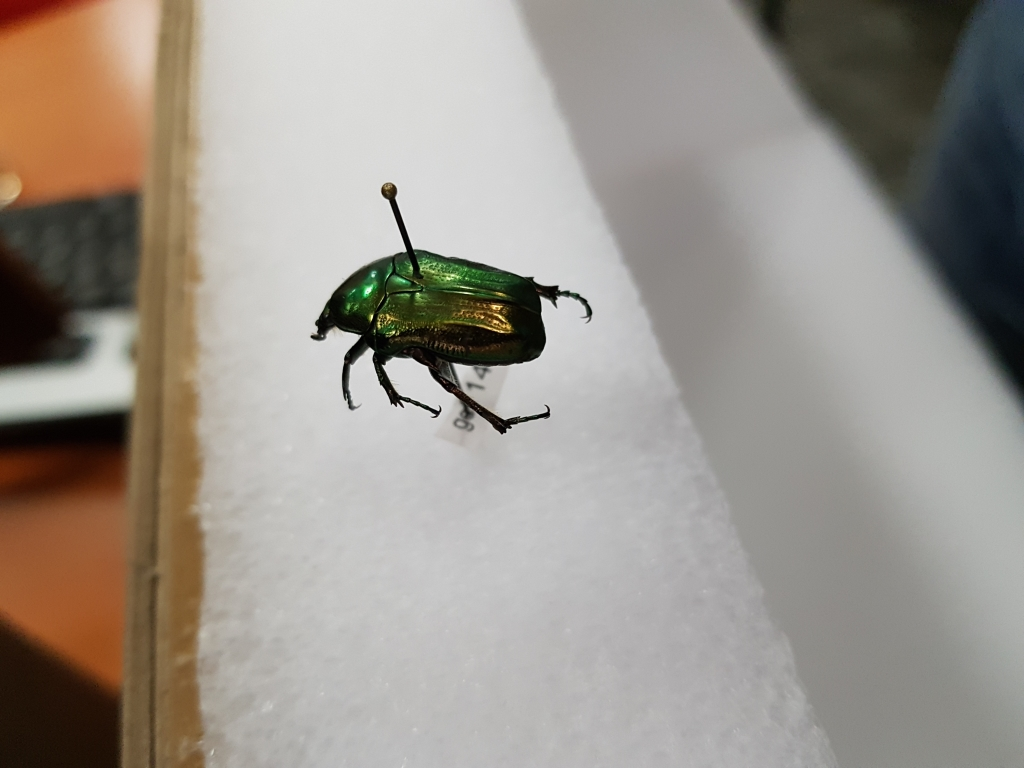Cetonia_aurata: (300, 240, 606, 438)
